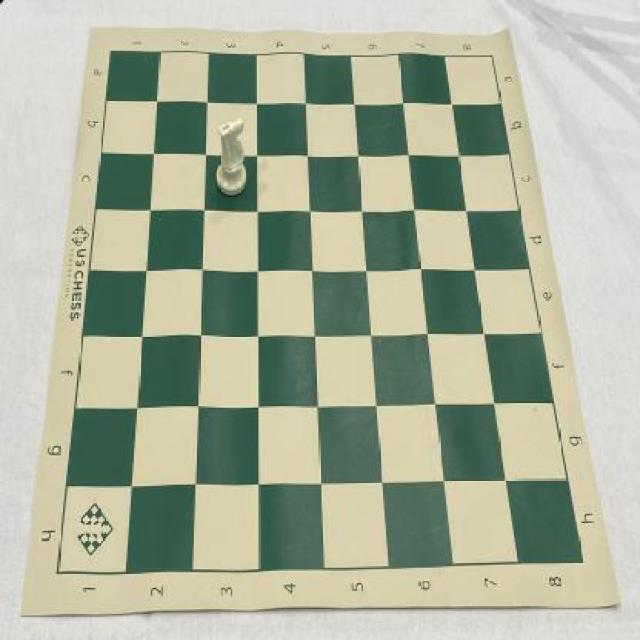white-king: (216, 119, 248, 196)
